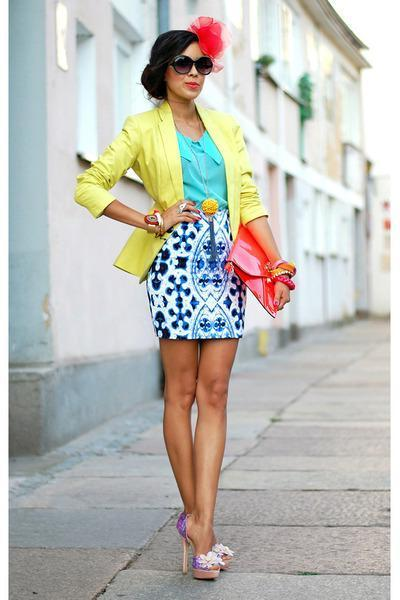jacket: (71, 102, 271, 283)
short sleeve shirt: (166, 125, 238, 213)
skirt: (146, 207, 252, 345)
